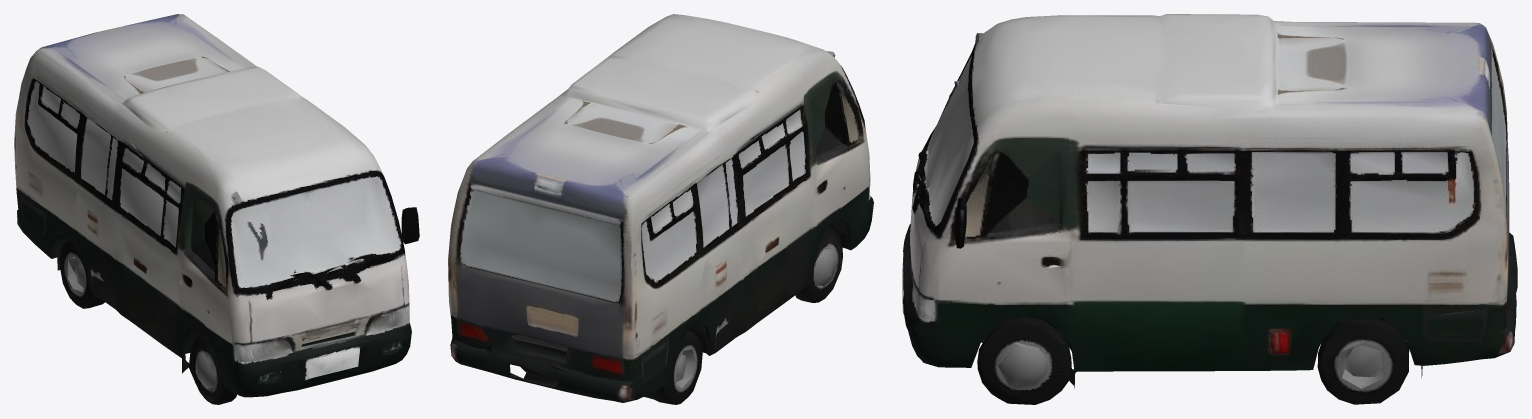
Rendered from bus.glb.
3 views of the same model, side by side, from view 1: azimuth 30°, elevation 25°; view 2: azimuth 150°, elevation 25°; view 3: azimuth 270°, elevation 25° (orthographic). The views are drawn at different scales.
Visible parts, largest first — view 1: bus; view 2: bus; view 3: bus.
Part boxes in pixels (bbox=[...]): bus: bbox=[14, 14, 419, 404]; bus: bbox=[448, 14, 873, 404]; bus: bbox=[902, 14, 1517, 404].
Size of the model in its own units: 2.56 by 2.9 by 5.32.
Materials: 1 (1 with a texture image).
